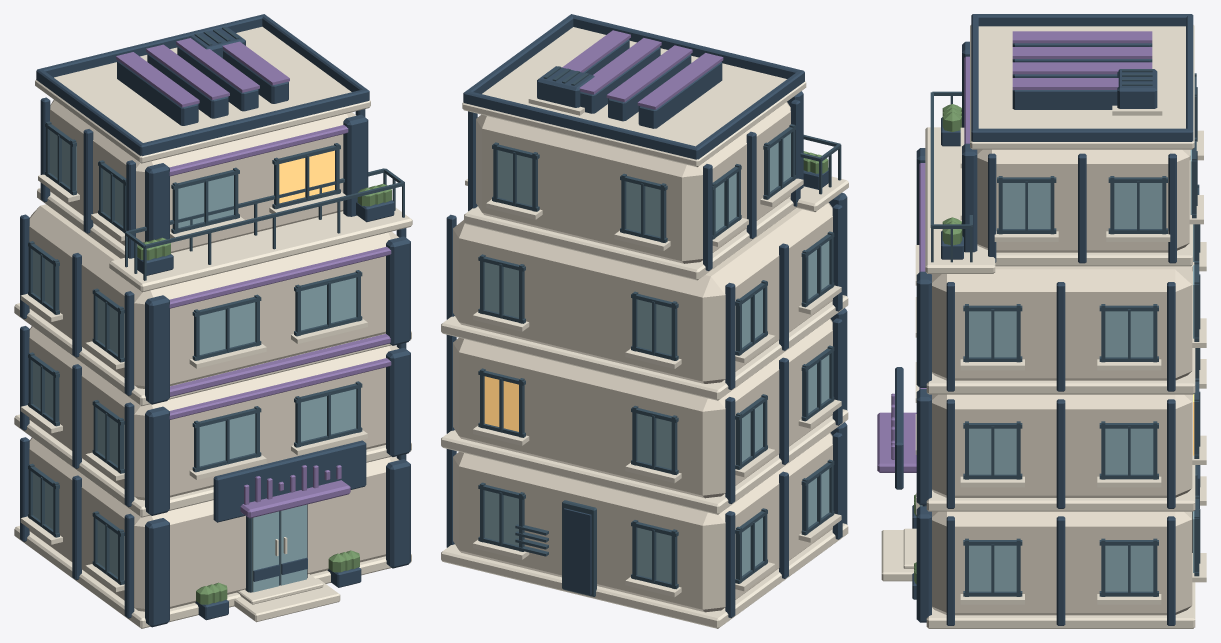
File: media-l04.glb
3 views of the same model, side by side, from view 1: azimuth 30°, elevation 25°; view 2: azimuth 150°, elevation 25°; view 3: azimuth 270°, elevation 25° (orthographic). The views are drawn at different scales.
Visible parts, largest first — view 1: media_L04; view 2: media_L04; view 3: media_L04.
Part boxes in pixels (left/top/right/bottom): media_L04: left=14, top=14, right=412, bottom=628; media_L04: left=441, top=14, right=848, bottom=628; media_L04: left=877, top=14, right=1206, bottom=628.
Bounding box in the file's own units: 5.77 × 9.11 × 5.39.
